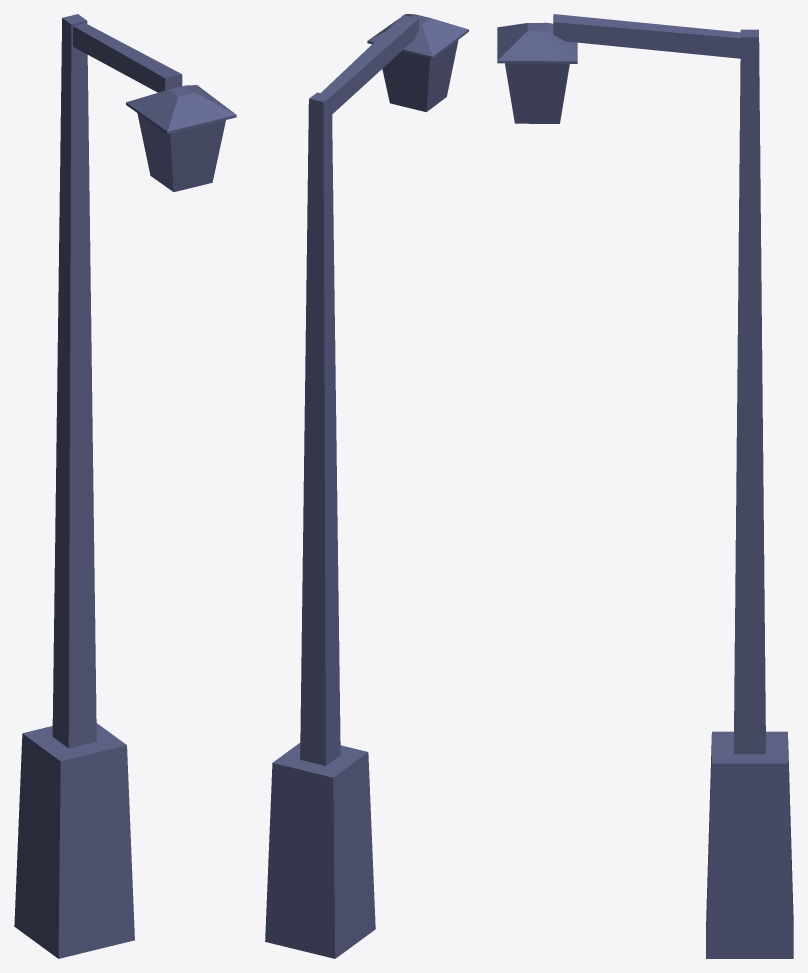
File: post.glb
3 renders of one model, left to right at view 1: azimuth 30°, elevation 25°; view 2: azimuth 150°, elevation 25°; view 3: azimuth 270°, elevation 25°, orthographic. The views are drawn at different scales.
Parts seen in each view (by area): view 1: post; view 2: post; view 3: post.
Part boxes in pixels (x1=…): post: x1=14, y1=14, x2=236, y2=958; post: x1=265, y1=14, x2=468, y2=958; post: x1=497, y1=14, x2=793, y2=958.
Size of the model in its own units: 0.2704 by 3.14 by 0.9152.
